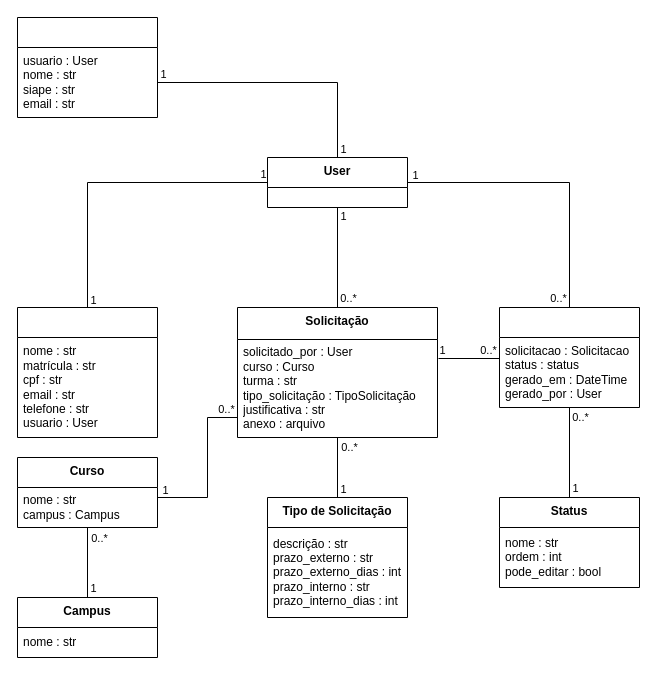
This 657x675 diagram has some shape labels left out. Each missing label, with the box of its shape:
Aluno: (16, 306, 158, 438)
Histórico: (498, 306, 640, 408)
Servidor: (16, 16, 158, 118)
